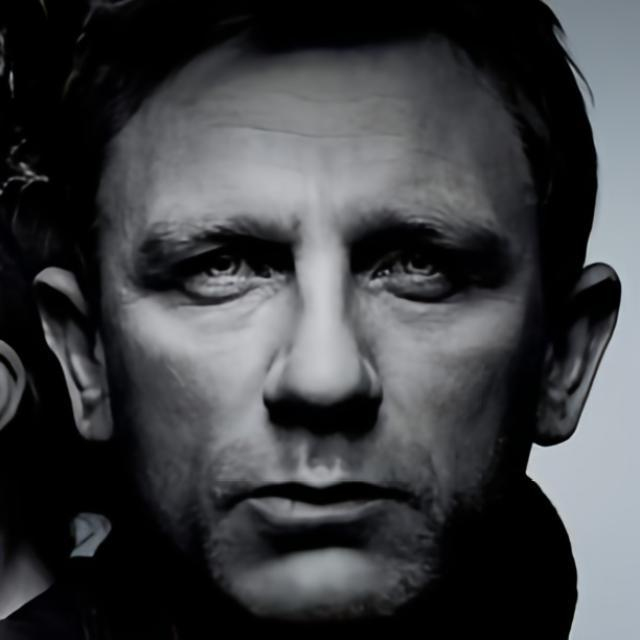sad: (96, 24, 543, 640)
